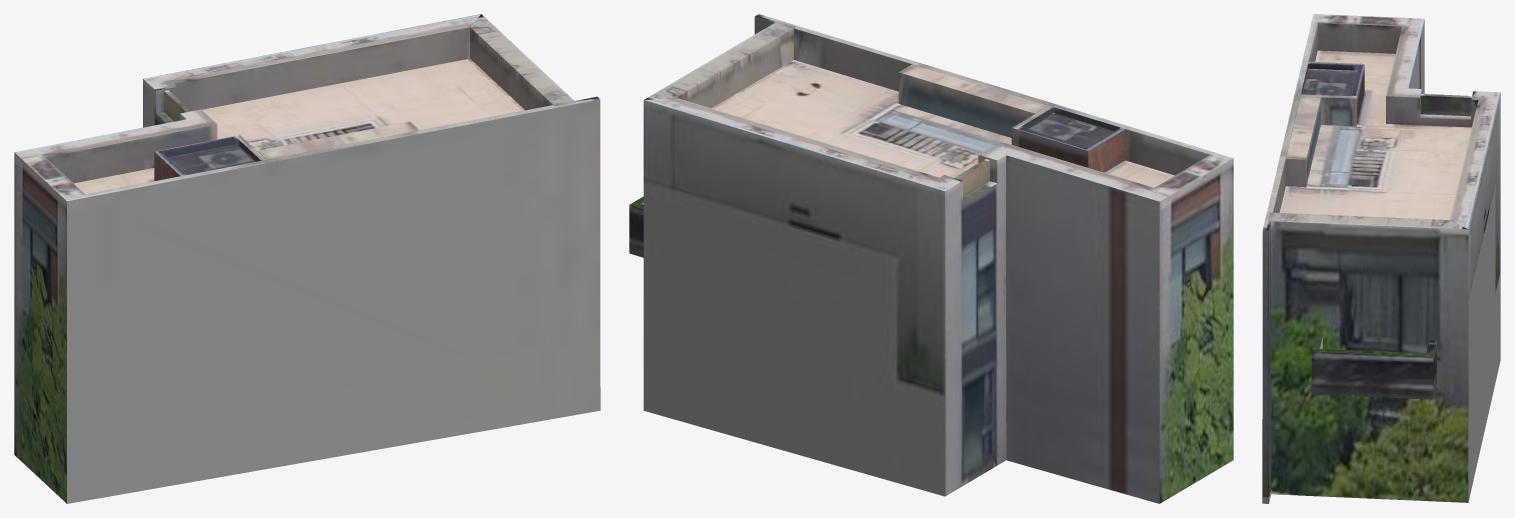
3 views of the same model, side by side, from view 1: azimuth 30°, elevation 25°; view 2: azimuth 150°, elevation 25°; view 3: azimuth 270°, elevation 25° (orthographic). The views are drawn at different scales.
Visible parts, largest first — view 1: B286374035801062A0; view 2: B286374035801062A0; view 3: B286374035801062A0.
Boxes of the visible parts, left/top/right/bottom form: B286374035801062A0: left=14, top=14, right=600, bottom=503; B286374035801062A0: left=629, top=14, right=1233, bottom=503; B286374035801062A0: left=1262, top=14, right=1500, bottom=503.
Size of the model in its own units: 16.53 by 9.15 by 7.22.
1 material, 1 textured.
